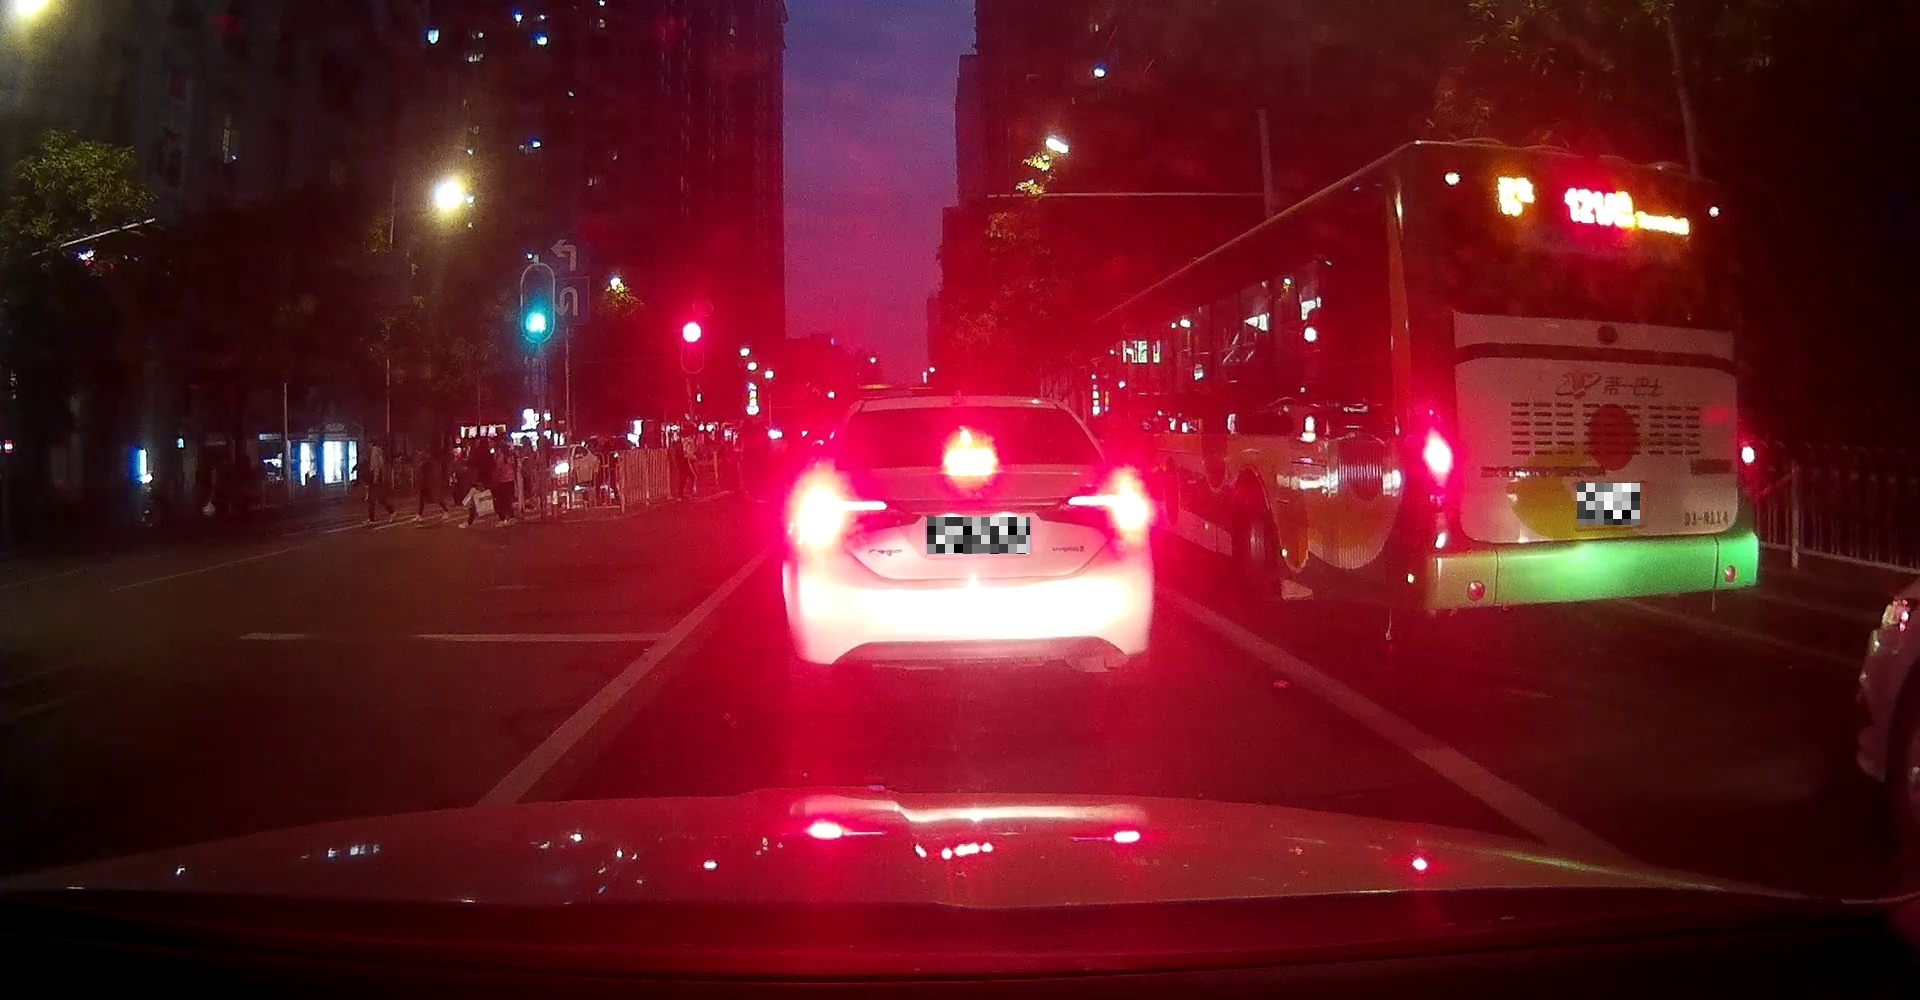L_light: (792, 484, 888, 548), (1421, 428, 1451, 484)
R_light: (1065, 475, 1150, 532), (1737, 430, 1755, 482)
T_light: (943, 445, 1001, 475), (1571, 171, 1615, 188)
night-brake: (781, 397, 1154, 688)
night-left: (1416, 141, 1757, 617)
plate_1: (927, 516, 1030, 555)
plate_2: (1577, 484, 1641, 525)
